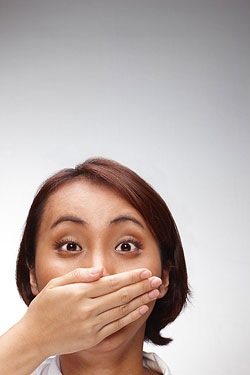face: (38, 184, 157, 351)
